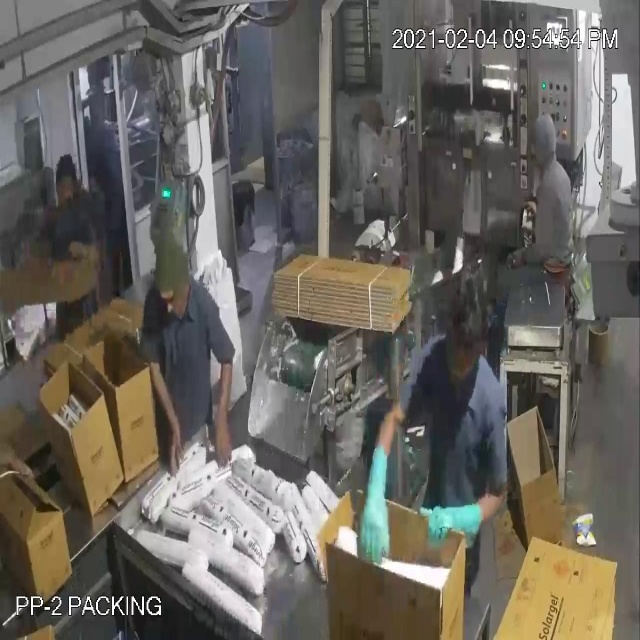Guantes: (353, 431, 392, 589), (419, 484, 486, 563)
Sin_guantes: (137, 352, 186, 470), (209, 340, 236, 477)
